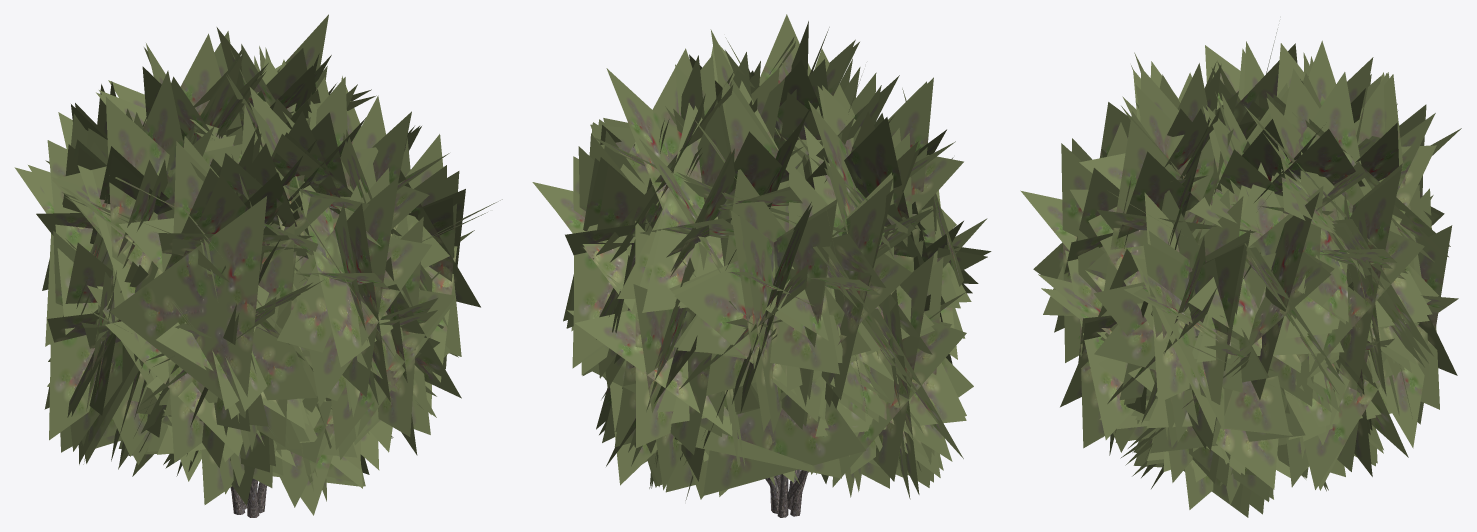
The model's file is Frangula_Alnus_Spring_Young.glb.
3 renders of one model, left to right at view 1: azimuth 30°, elevation 25°; view 2: azimuth 150°, elevation 25°; view 3: azimuth 270°, elevation 25°, orthographic. The views are drawn at different scales.
Parts seen in each view (by area): view 1: Frangula_Alnus_Spring_Young__LOD3; view 2: Frangula_Alnus_Spring_Young__LOD3; view 3: Frangula_Alnus_Spring_Young__LOD3.
Part boxes in pixels (x1,y1,x2,y2): Frangula_Alnus_Spring_Young__LOD3: (14, 14, 502, 517); Frangula_Alnus_Spring_Young__LOD3: (532, 14, 991, 517); Frangula_Alnus_Spring_Young__LOD3: (1020, 29, 1461, 517).
Size of the model in its own units: 3.56 by 3.81 by 3.51.
2 materials, 2 textured.
